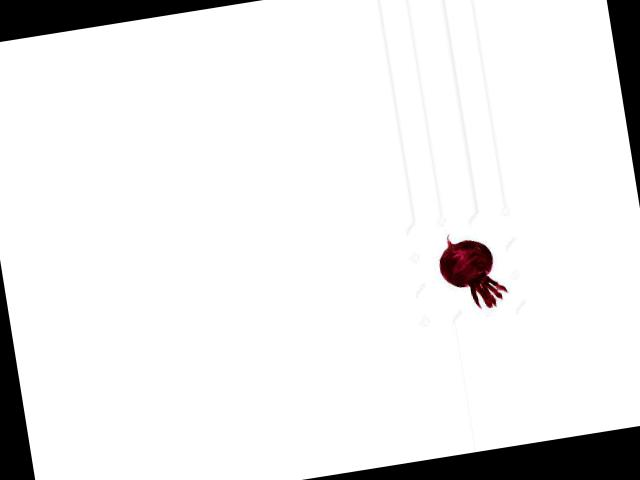beet: (434, 225, 509, 314)
